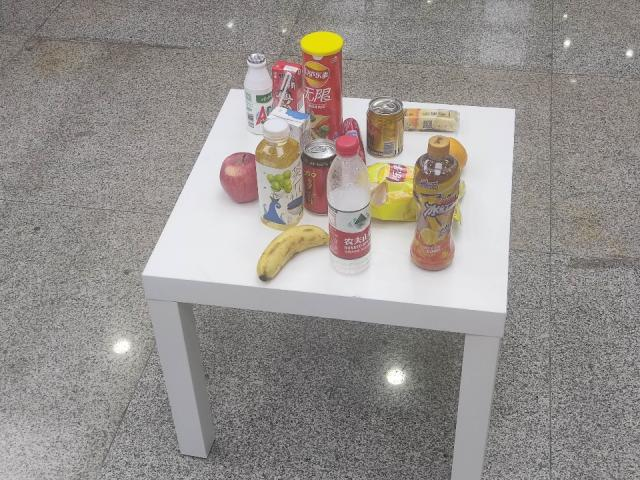Canned_drinks: (301, 138, 338, 216), (367, 97, 408, 159)
bottle: (318, 134, 379, 274)
cylinder: (300, 27, 344, 147)
drink_box: (269, 57, 304, 115)
